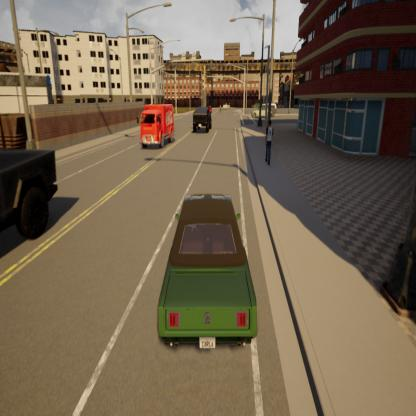Cars: (157, 196, 257, 350), (0, 148, 59, 244), (140, 103, 176, 147), (192, 106, 212, 134), (259, 104, 280, 118), (252, 101, 269, 117), (222, 104, 232, 110), (207, 102, 212, 113)
Pedestrian: (264, 116, 274, 164), (218, 100, 222, 113)
